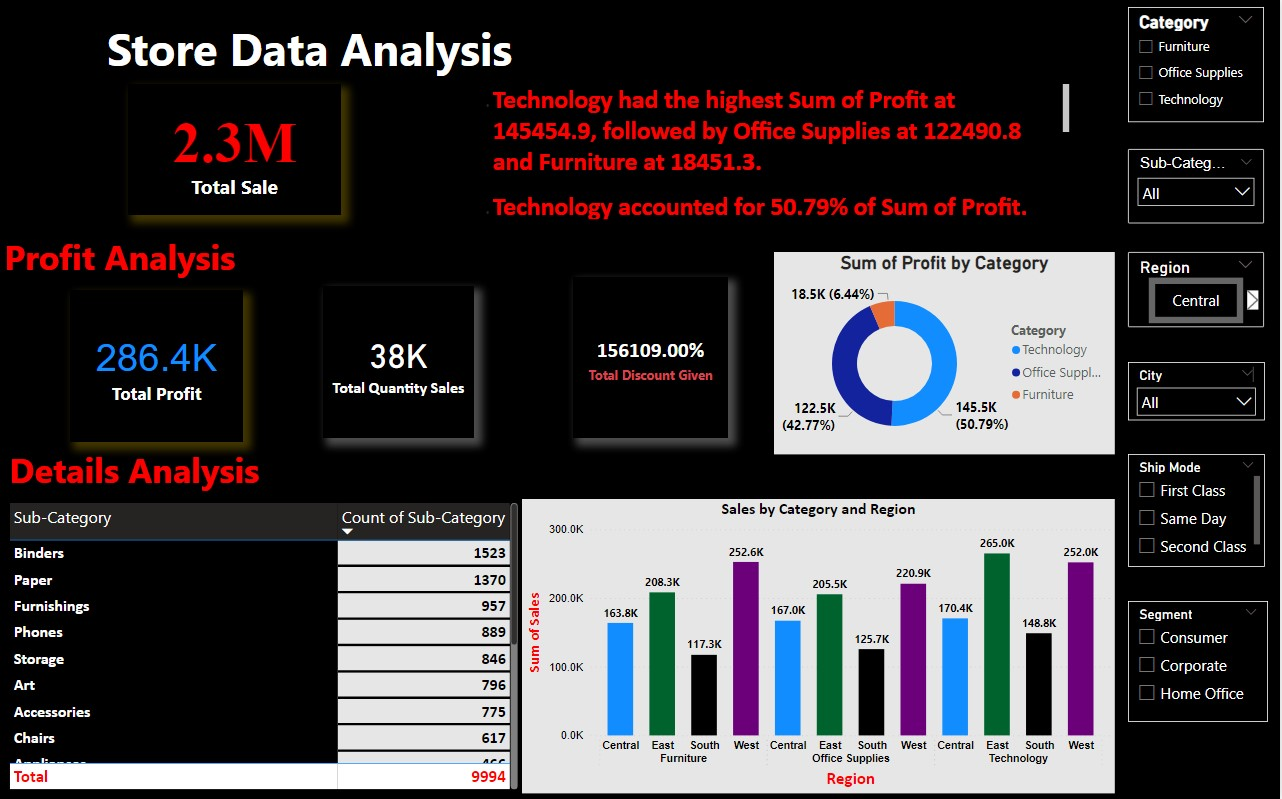

The dashboard page shown, as its layout file describes it:
{"tool":"powerbi","page":{"name":"Page 1","canvas":[1600,1000],"ordinal":0},"visuals":[{"type":"donutChart","fields":{"Y":["Sum(SampleSuperstore.Profit)"],"Category":["SampleSuperstore.Category","SampleSuperstore.Sub-Category"]},"box":[967.5,316.2,426.2,252.5],"z":0},{"type":"slicer","fields":{"Values":["SampleSuperstore.City"]},"box":[1410,453.8,171.2,72.5],"z":1000},{"type":"card","fields":{"Values":["Sum(SampleSuperstore.Sales)"]},"box":[160,106.2,266.2,163.8],"z":2000},{"type":"slicer","fields":{"Values":["SampleSuperstore.Category"]},"box":[1410,10,170,143.8],"z":3000},{"type":"slicer","fields":{"Values":["SampleSuperstore.Sub-Category"]},"box":[1410,187.5,170,92.5],"z":4000},{"type":"card","fields":{"Values":["Sum(SampleSuperstore.Profit)"]},"box":[87.5,363.8,216.2,190],"z":5000},{"type":"slicer","fields":{"Values":["SampleSuperstore.Region"]},"box":[1410,316.2,170,93.8],"z":6000},{"type":"card","fields":{"Values":["Sum(SampleSuperstore.Quantity)"]},"box":[403.8,358.8,188.8,190],"z":7000},{"type":"columnChart","title":"Sales by Category and Region","fields":{"Category":["SampleSuperstore.Category","SampleSuperstore.Region"],"Y":["Sum(SampleSuperstore.Sales)"]},"box":[652.5,625,741.2,367.5],"z":8000},{"type":"card","fields":{"Values":["Sum(SampleSuperstore.Discount)"]},"box":[716.2,347.5,193.8,201.2],"z":9000},{"type":"slicer","fields":{"Values":["SampleSuperstore.Ship Mode"]},"box":[1410,568.8,171.2,141.2],"z":10000},{"type":"slicer","fields":{"Values":["SampleSuperstore.Segment"]},"box":[1410,752.5,175,151.2],"z":11000},{"type":"textbox","box":[592.5,101.2,748.8,178.8],"z":12000},{"type":"textbox","box":[27.5,18.8,718.8,87.5],"z":13000},{"type":"textbox","box":[0,287.5,320,76.2],"z":14000},{"type":"tableEx","fields":{"Values":["SampleSuperstore.Sub-Category","CountNonNull(SampleSuperstore.Sub-Category)"]},"box":[6.2,625,646.2,367.5],"z":15000},{"type":"textbox","box":[6.2,553.8,627.5,73.8],"z":16000}]}

Visuals, with their boxes in screenshot pixels (x1, y1, x2, y2), scaled from the page's 1600x1000 canvas onto the 1282x799 screenshot:
donutChart - Sum(SampleSuperstore.Profit) x SampleSuperstore.Category: Rect(775, 253, 1117, 454)
slicer - SampleSuperstore.City: Rect(1130, 363, 1267, 421)
card - Sum(SampleSuperstore.Sales): Rect(128, 85, 341, 216)
slicer - SampleSuperstore.Category: Rect(1130, 8, 1266, 123)
slicer - SampleSuperstore.Sub-Category: Rect(1130, 150, 1266, 224)
card - Sum(SampleSuperstore.Profit): Rect(70, 291, 243, 442)
slicer - SampleSuperstore.Region: Rect(1130, 253, 1266, 328)
card - Sum(SampleSuperstore.Quantity): Rect(324, 287, 475, 438)
"Sales by Category and Region" columnChart: Rect(523, 499, 1117, 793)
card - Sum(SampleSuperstore.Discount): Rect(574, 278, 729, 438)
slicer - SampleSuperstore.Ship Mode: Rect(1130, 454, 1267, 567)
slicer - SampleSuperstore.Segment: Rect(1130, 601, 1270, 722)
textbox: Rect(475, 81, 1075, 224)
textbox: Rect(22, 15, 598, 85)
textbox: Rect(0, 230, 256, 291)
tableEx - SampleSuperstore.Sub-Category x CountNonNull(SampleSuperstore.Sub-Category): Rect(5, 499, 523, 793)
textbox: Rect(5, 442, 508, 501)
